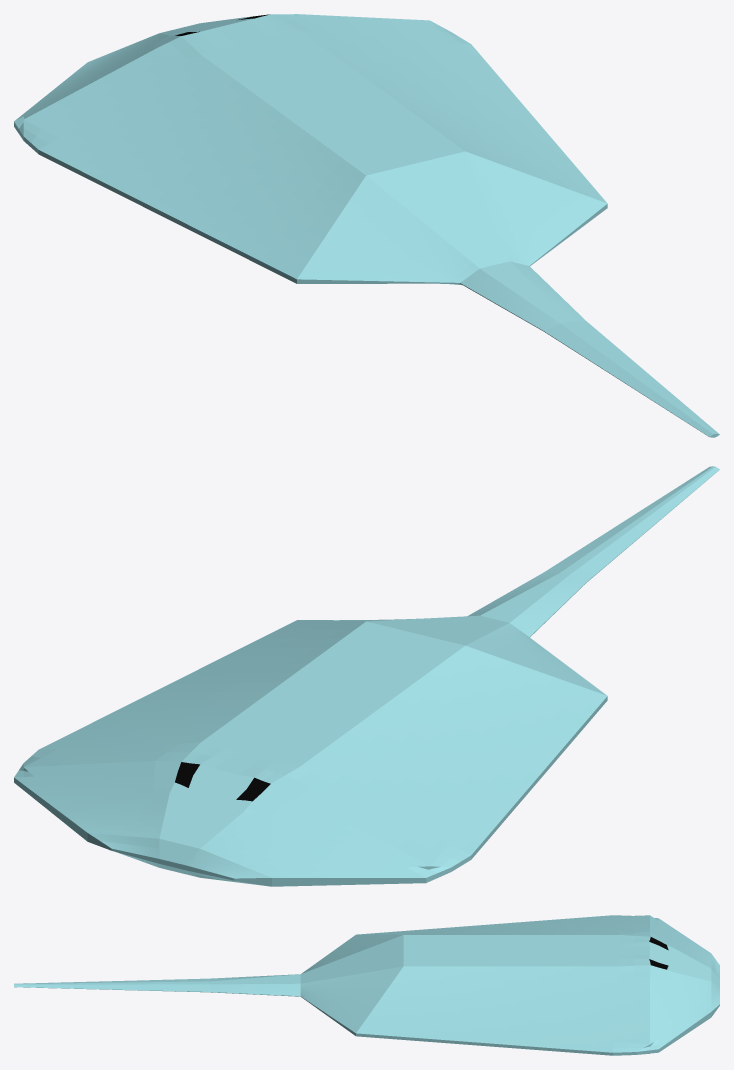
File: stingray.fbx
3 views of the same model, one above another, from view 1: azimuth 30°, elevation 25°; view 2: azimuth 150°, elevation 25°; view 3: azimuth 270°, elevation 25° (orthographic). The views are drawn at different scales.
Parts seen in each view (by area): view 1: stingray; view 2: stingray; view 3: stingray.
Part boxes in pixels (x1,y1,x2,y2): stingray: [14, 14, 719, 437]; stingray: [14, 466, 719, 886]; stingray: [14, 915, 719, 1055].
Bounding box in the file's own units: 828 × 153 × 1796.
